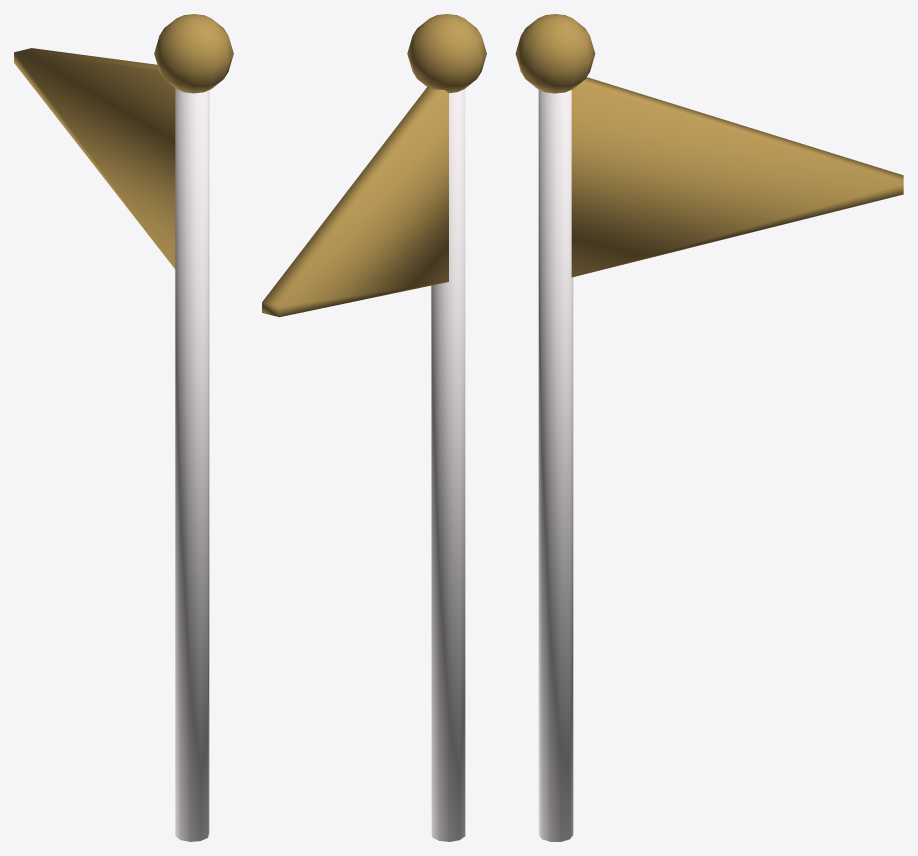
The model's file is FLAG.fbx.
3 renders of one model, left to right at view 1: azimuth 30°, elevation 25°; view 2: azimuth 150°, elevation 25°; view 3: azimuth 270°, elevation 25°, orthographic.
Visible parts, largest first — view 1: pCylinder2_lambert1_0.001, pCylinder2_lambert1_0; view 2: pCylinder2_lambert1_0, pCylinder2_lambert1_0.001; view 3: pCylinder2_lambert1_0, pCylinder2_lambert1_0.001.
Part boxes in pixels (x1,y1,x2,y2): pCylinder2_lambert1_0.001: [175, 88, 209, 841]; pCylinder2_lambert1_0: [14, 14, 233, 268]; pCylinder2_lambert1_0: [262, 14, 486, 317]; pCylinder2_lambert1_0.001: [431, 89, 465, 841]; pCylinder2_lambert1_0: [515, 14, 903, 277]; pCylinder2_lambert1_0.001: [538, 90, 573, 841].
Size of the model in its own units: 15.1 by 171 by 73.36.
Materials: 1 (1 with a texture image).
